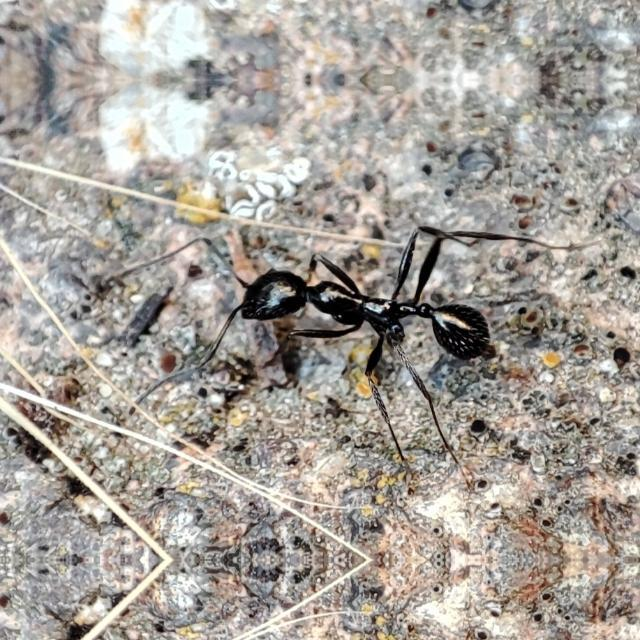Apheanogaster: (206, 235, 518, 382)
